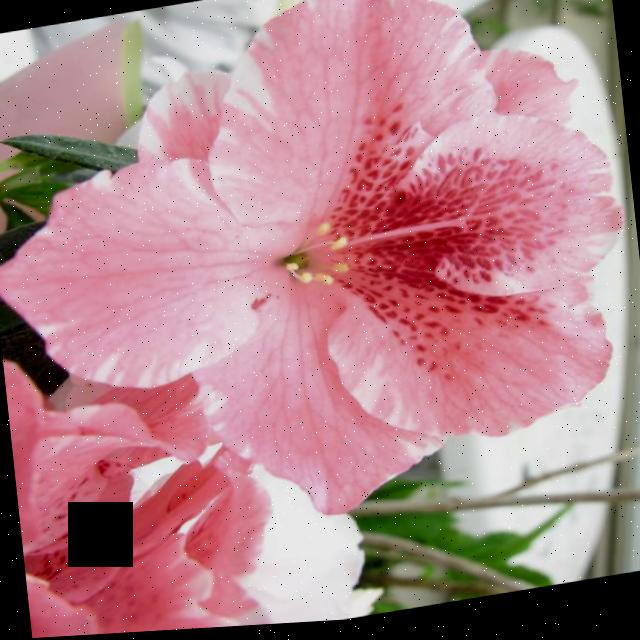azalea: (48, 0, 610, 481)
